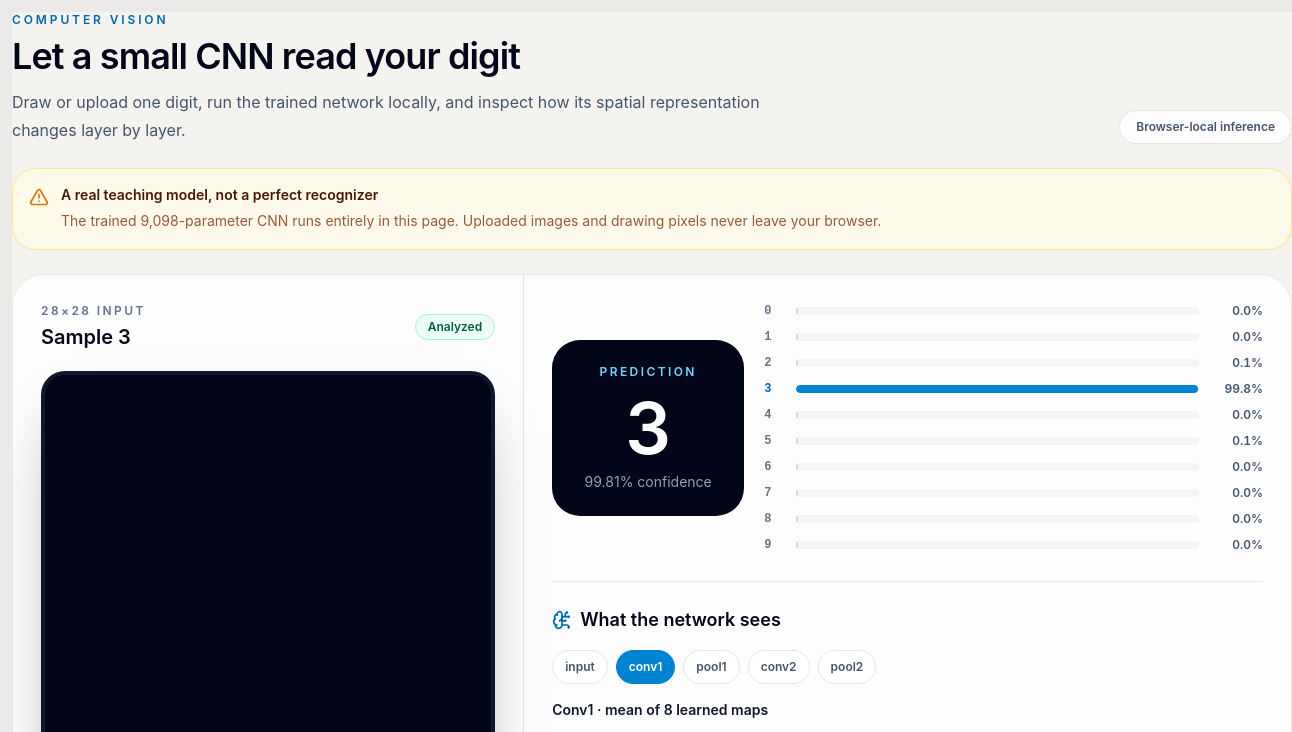
DigitLabPage › switches activation stages and reports their tensor dimensions
Click the button "pool2".
click(847, 667)  # box [818, 650, 876, 684]
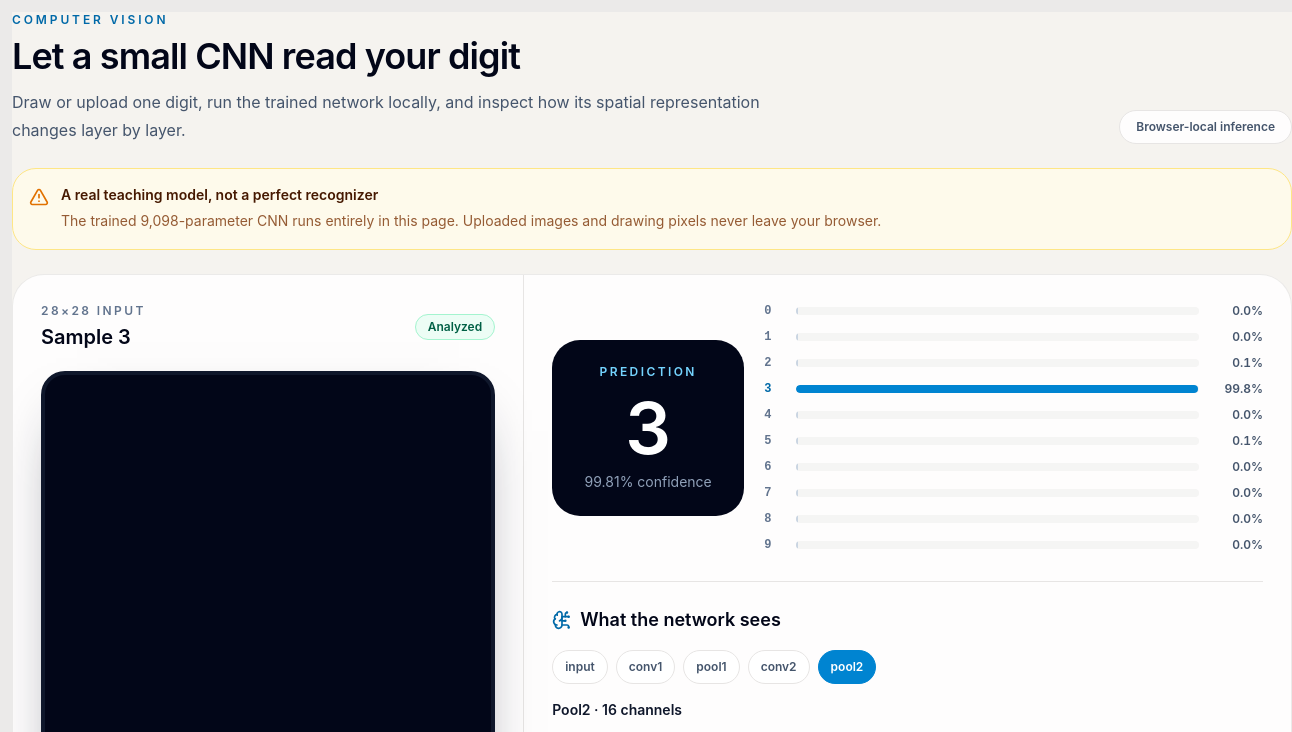
Result: the text with test id "digit-activation-label" shows "Pool2" at [552, 701, 682, 718]
